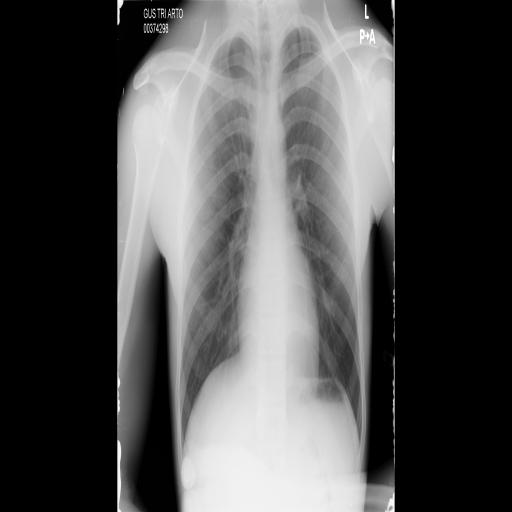normal: (173, 13, 366, 469)
